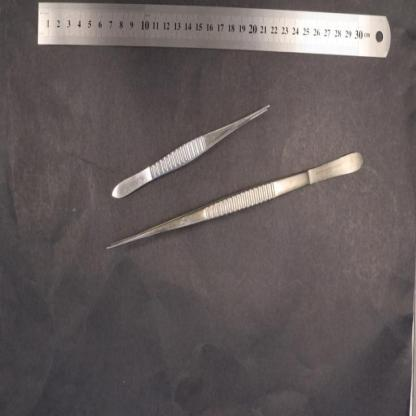DeBakey Dissector: (106, 151, 364, 250)
Gillies Toothed Dissector: (112, 103, 270, 199)
